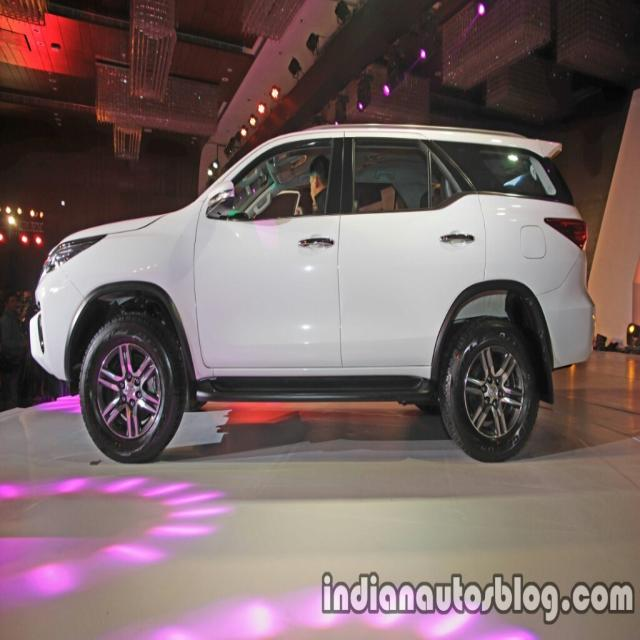light_vehicle: (28, 122, 596, 466)
